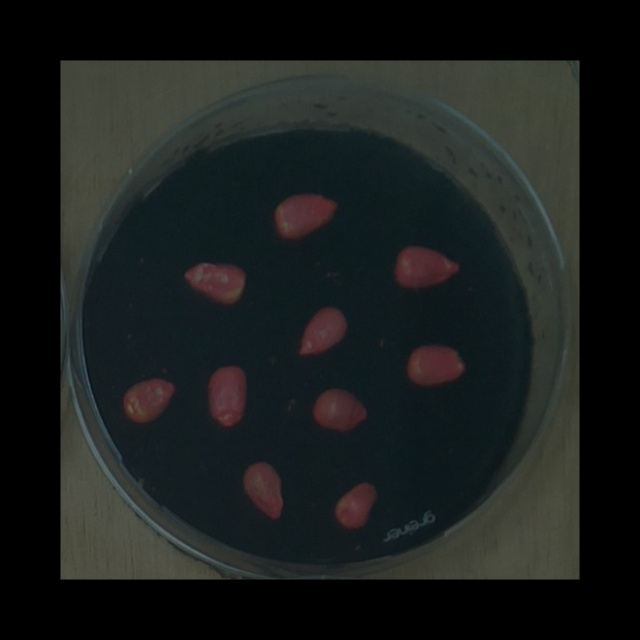Zea mays: (267, 186, 344, 246), (388, 240, 466, 296), (179, 255, 252, 310), (199, 359, 252, 434), (291, 301, 354, 364), (401, 338, 472, 392), (117, 373, 181, 431), (237, 457, 289, 525), (306, 381, 371, 435), (328, 474, 383, 535)
